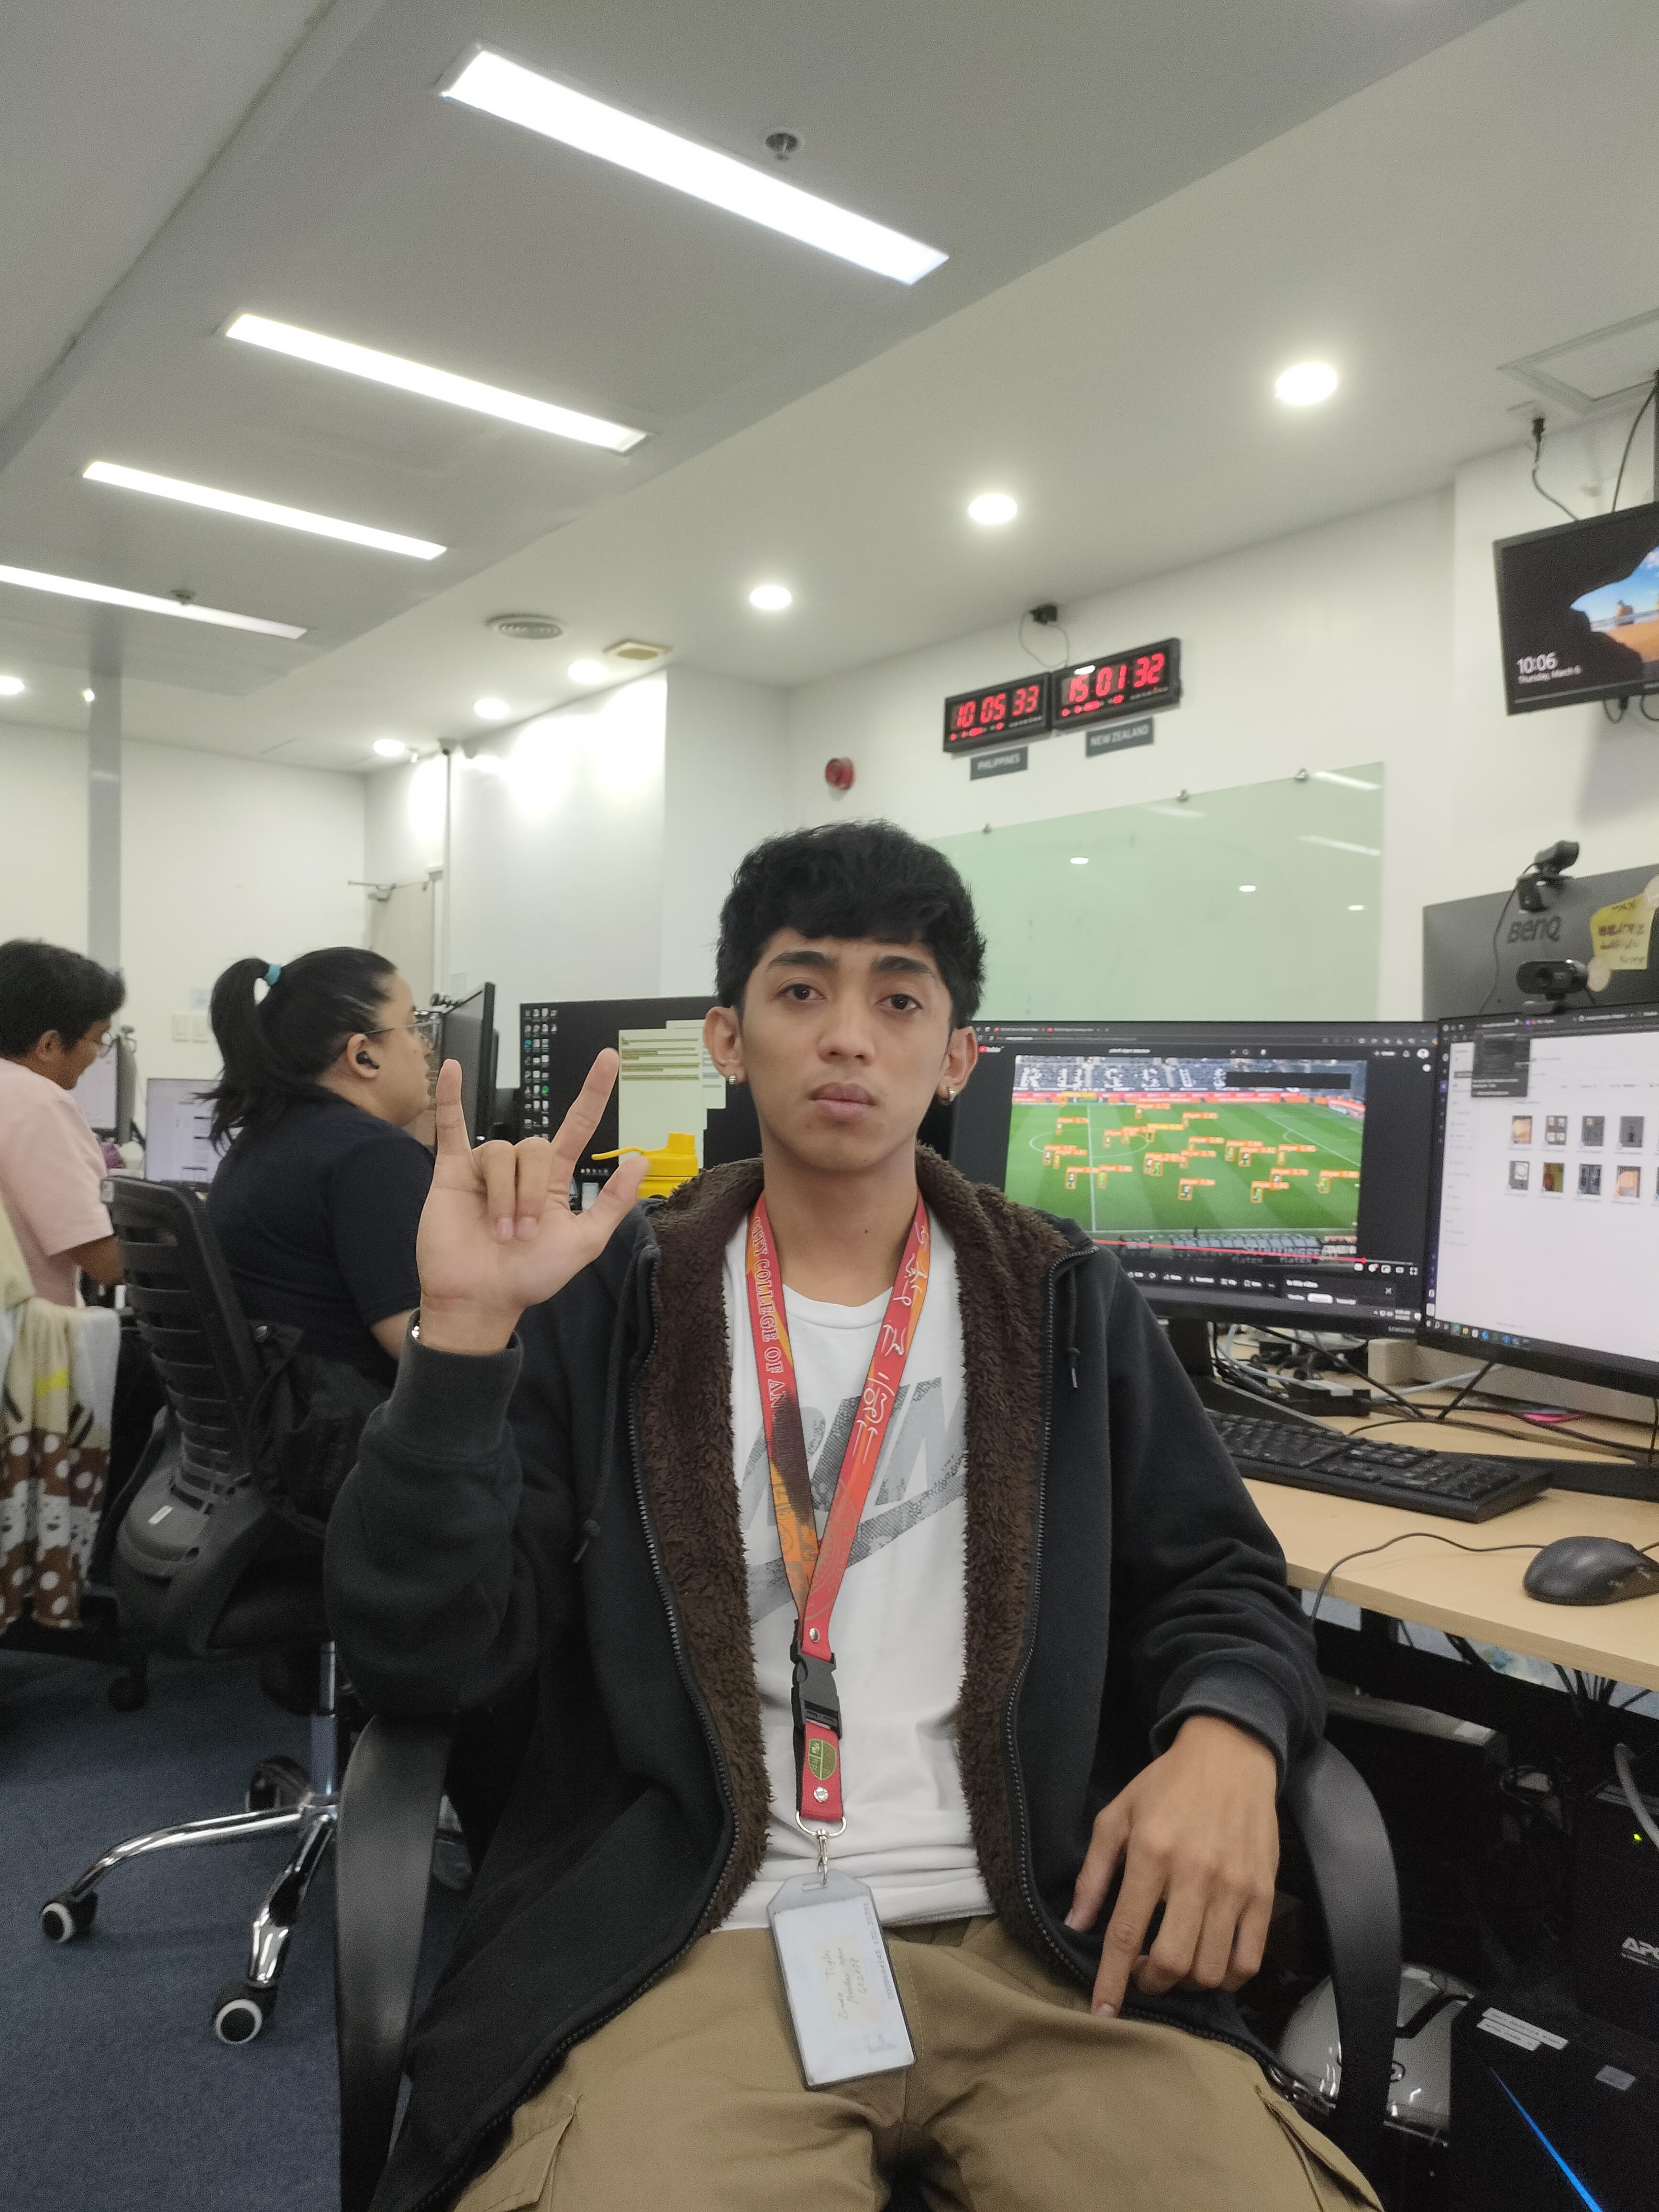Love_you: (392, 1017, 660, 1306)
